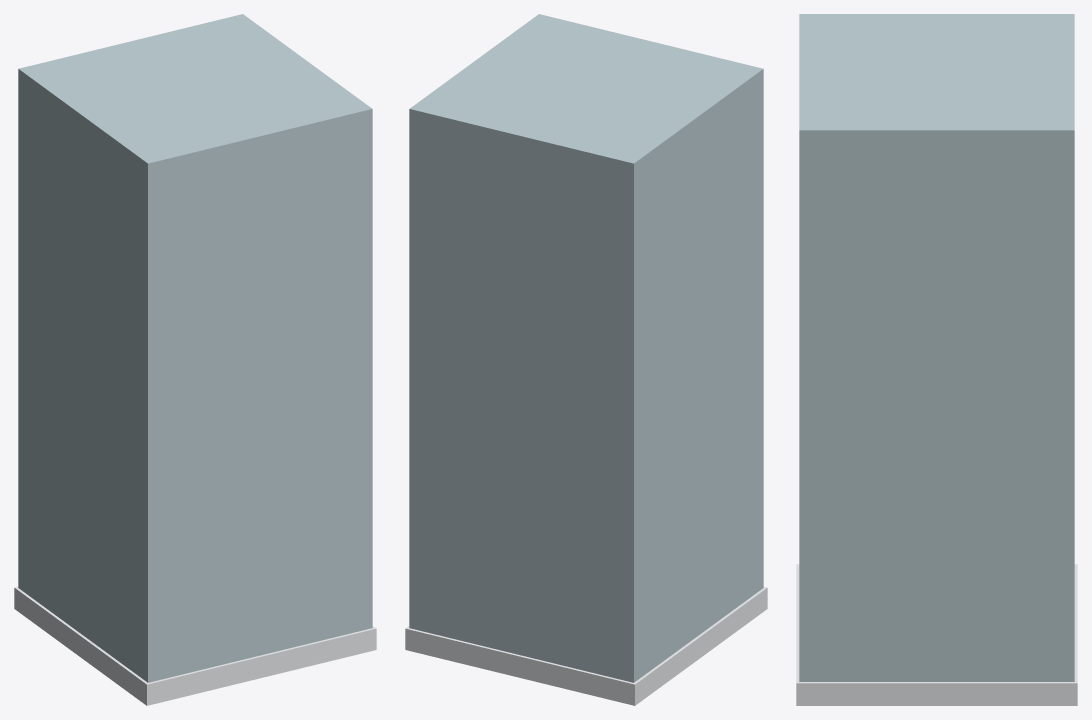
Rendered from shower.glb.
The picture shows the model from 3 angles, left to right: view 1: azimuth 30°, elevation 25°; view 2: azimuth 150°, elevation 25°; view 3: azimuth 270°, elevation 25°; orthographic projection. The views are drawn at different scales.
Parts seen in each view (by area): view 1: Cube.001, Cube; view 2: Cube.001, Cube; view 3: Cube.001, Cube.
Part boxes in pixels (box(x1,y1,x2,y2)): Cube.001: box(18, 14, 372, 682); Cube: box(14, 587, 376, 705); Cube.001: box(409, 14, 763, 682); Cube: box(405, 587, 767, 705); Cube.001: box(799, 14, 1074, 681); Cube: box(796, 564, 1077, 705).
Bounding box in the file's own units: 0.9 × 2.02 × 0.9.
